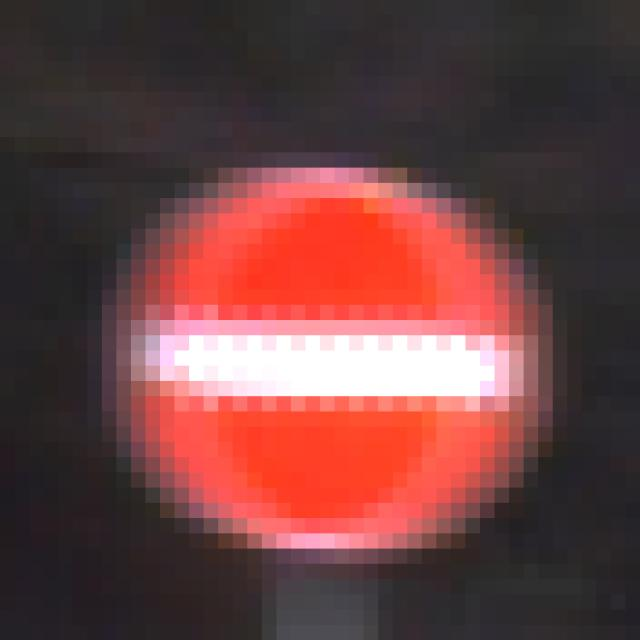No Entry: (74, 92, 568, 565)
